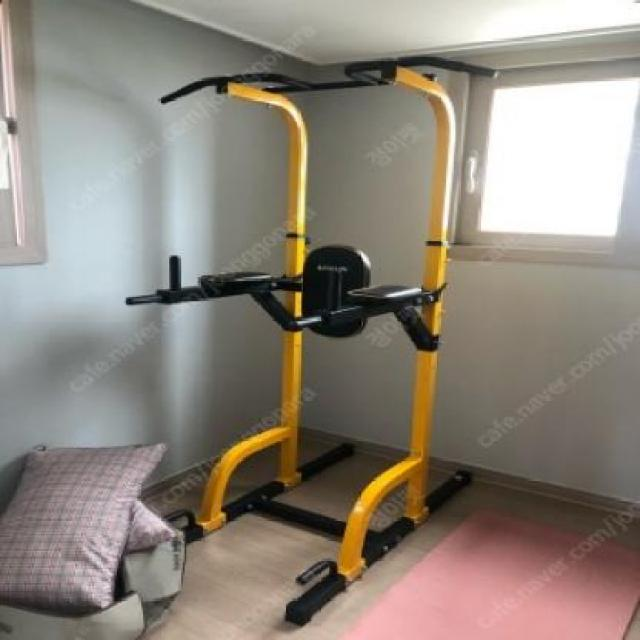chinning dipping: (126, 58, 502, 631)
